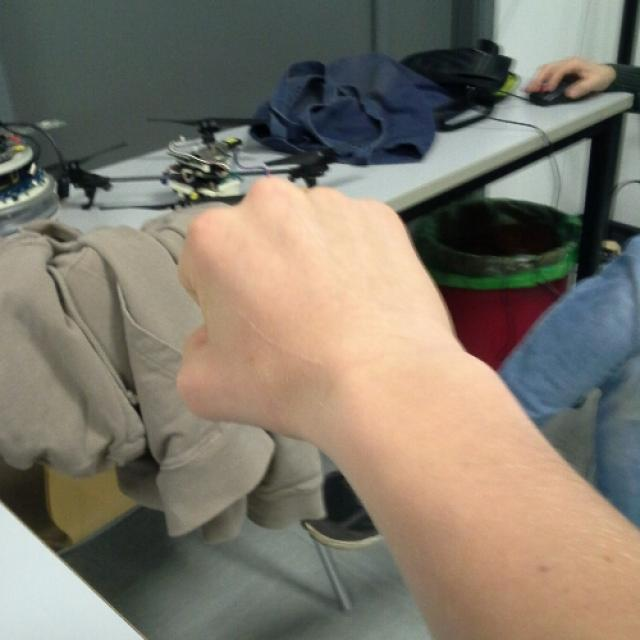rock: (174, 175, 445, 443)
